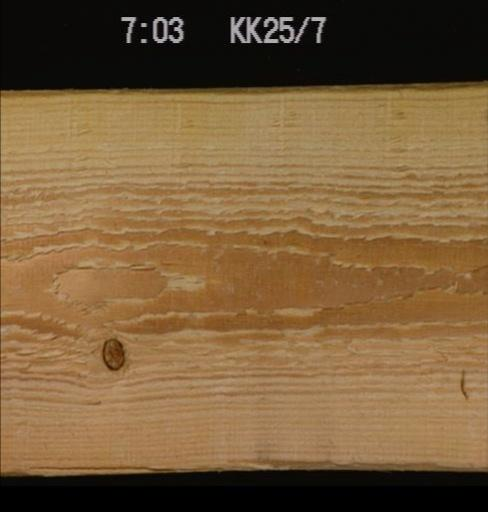wave: (2, 78, 312, 105), (243, 449, 483, 476)
